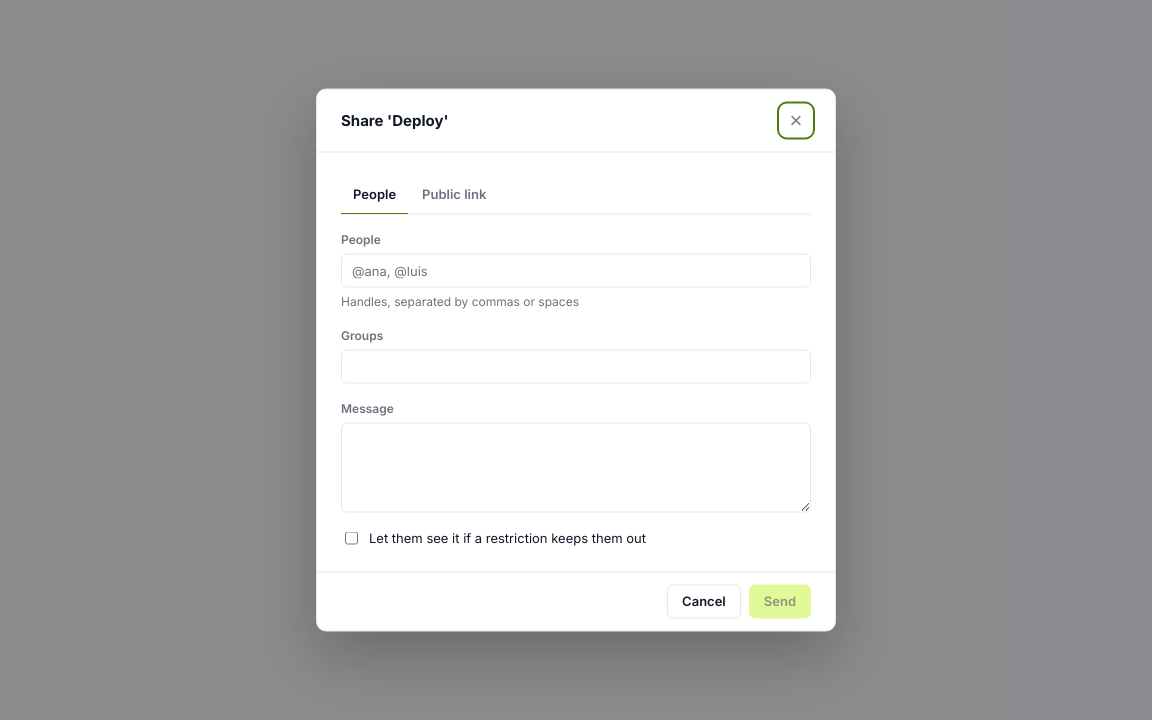
Test case: PublicLink › creates a page link hidden from search engines by default
Click the tab "Public link" at (454, 195), box x1=410 y1=176 x2=498 y2=214
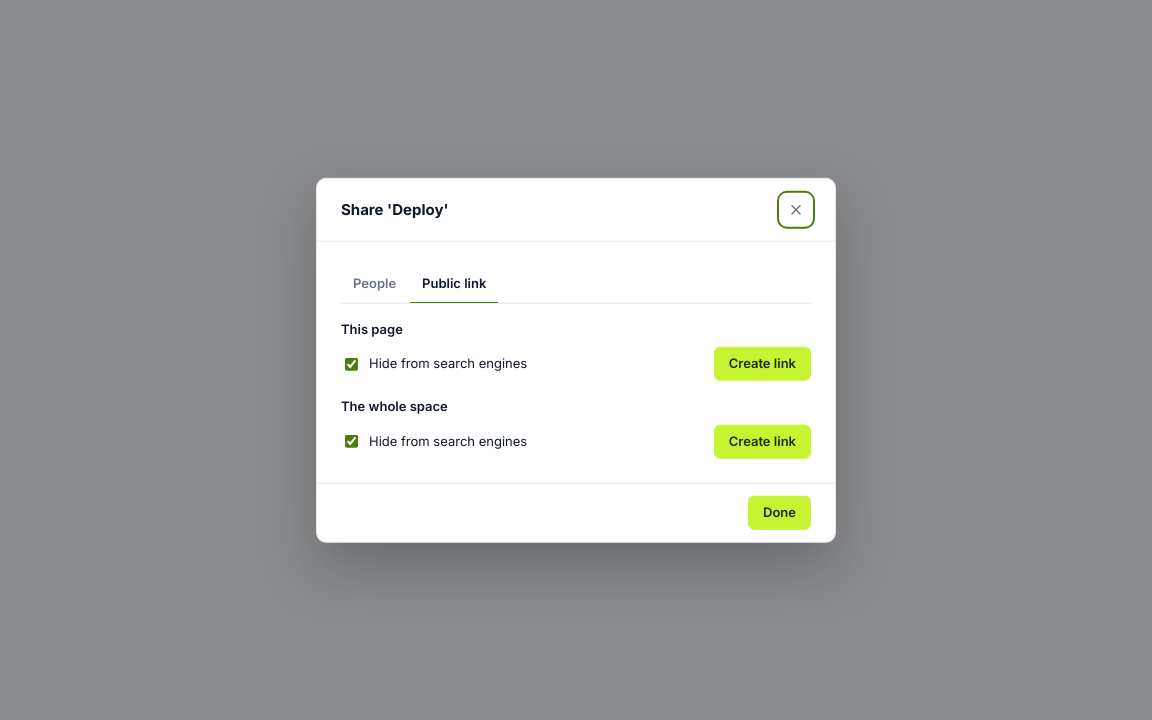
Check: the checkbox labelled "Hide from search engines" below "This page" is checked, box x1=345 y1=357 x2=358 y2=370
Click the 1st button "Create link" at (762, 364), box x1=714 y1=347 x2=811 y2=381
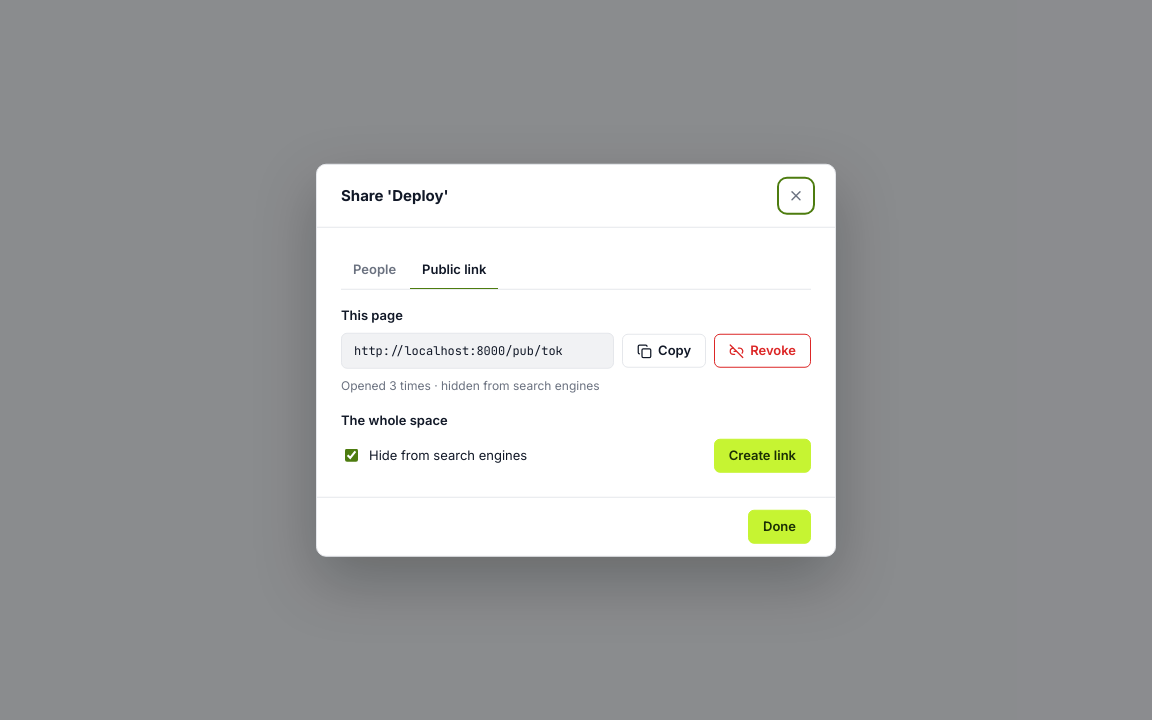
Check: the field showing "http://localhost:8000/pub/tok" is shown, box x1=341 y1=333 x2=614 y2=369
Check: the text "Opened 3 times · hidden from search engines" is shown, box x1=341 y1=378 x2=600 y2=393
